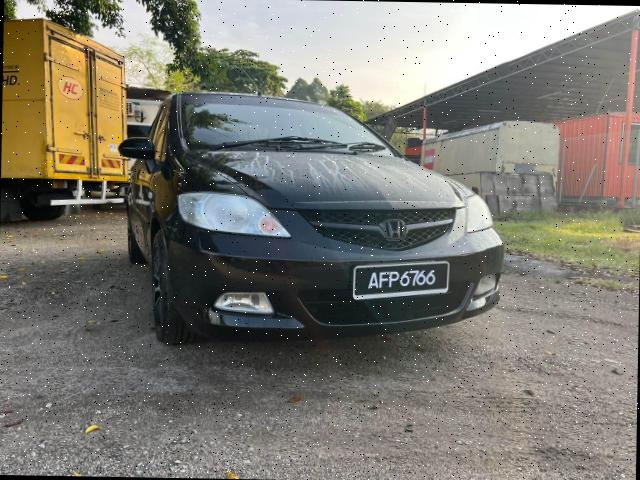License_Plate: (357, 264, 449, 295)
